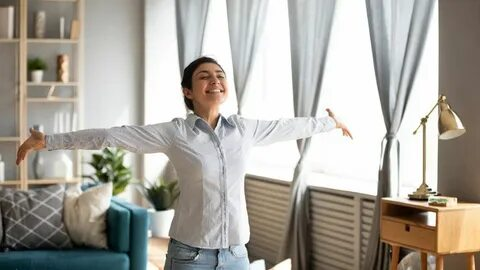awake: (16, 55, 352, 270)
